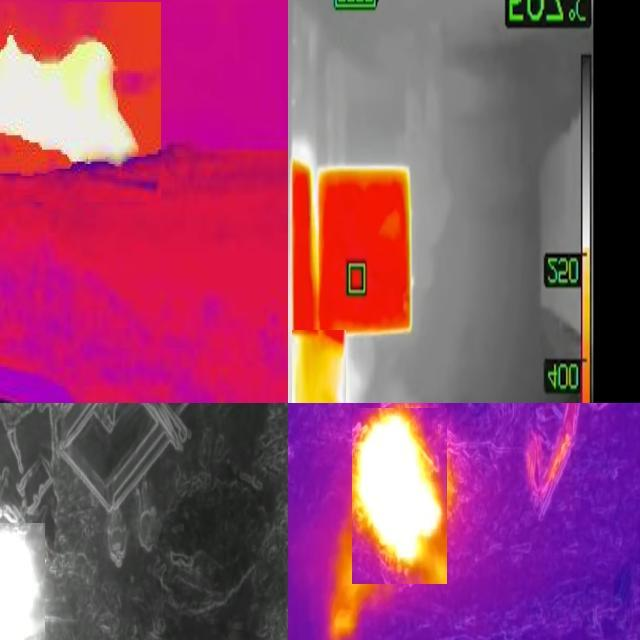fire: (1, 2, 141, 170), (352, 408, 447, 584), (292, 329, 346, 404)
